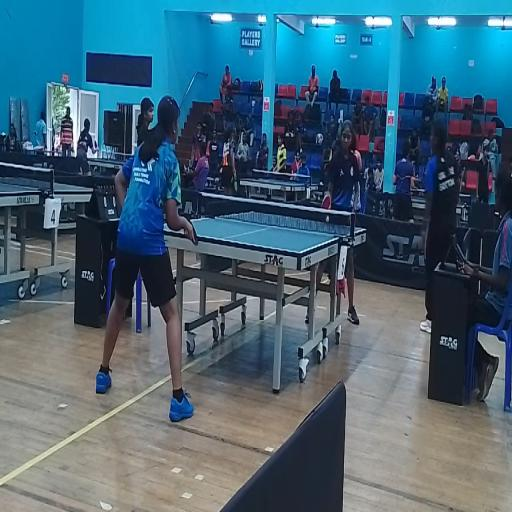ball: (325, 214, 329, 222)
